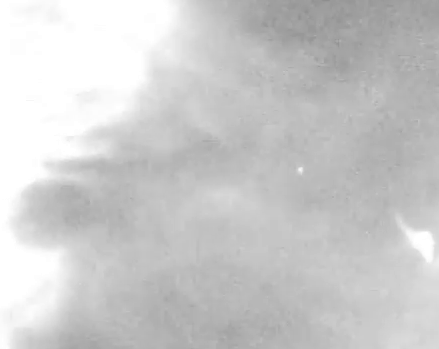Target: (298, 168, 302, 173)
